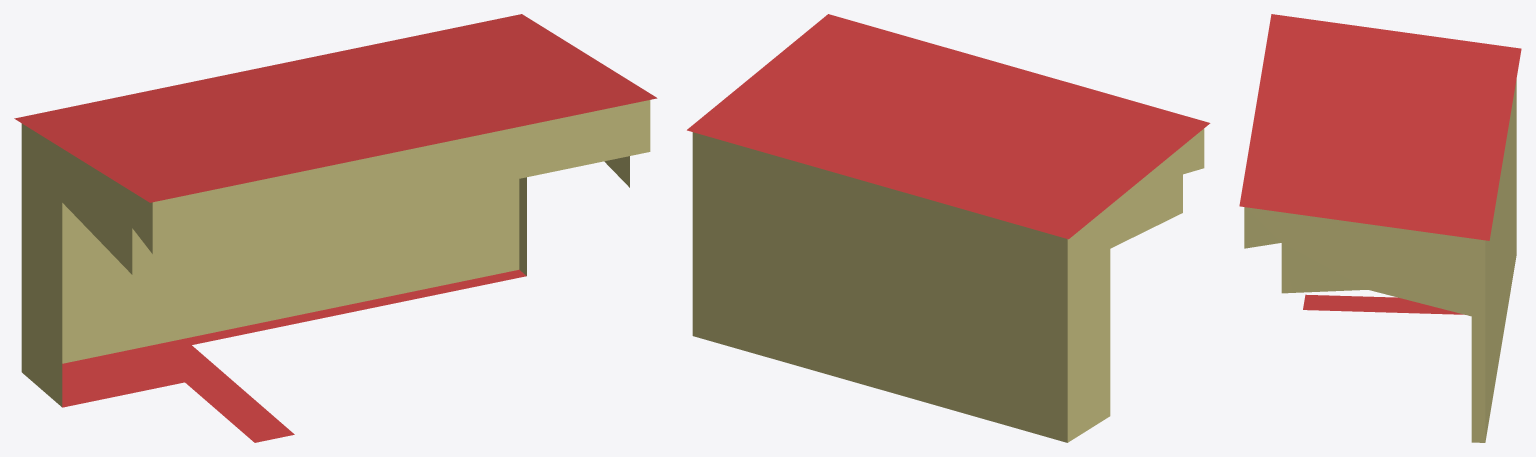
3 renders of one model, left to right at view 1: azimuth 30°, elevation 25°; view 2: azimuth 150°, elevation 25°; view 3: azimuth 270°, elevation 25°, orthographic. The views are drawn at different scales.
Bounding box in the file's own units: 26.16 × 15.62 × 14.12.
